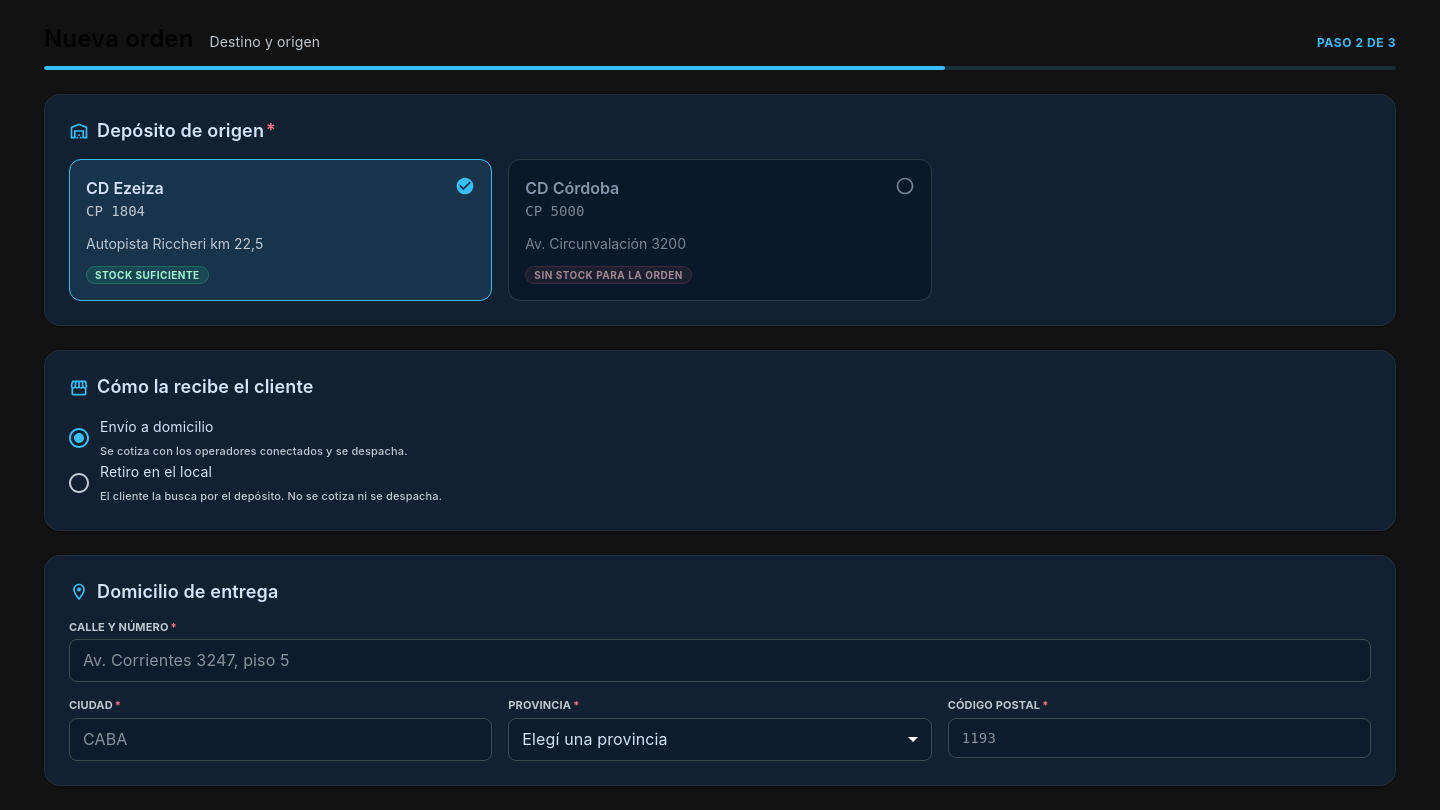
it: ShippingStepPage · what is missing to advance › names the confirmation as the next stage of a pickup
Click the radio button labelled "Retiro en el local" at (156, 471), box [67, 463, 442, 503]
(page scrolled)
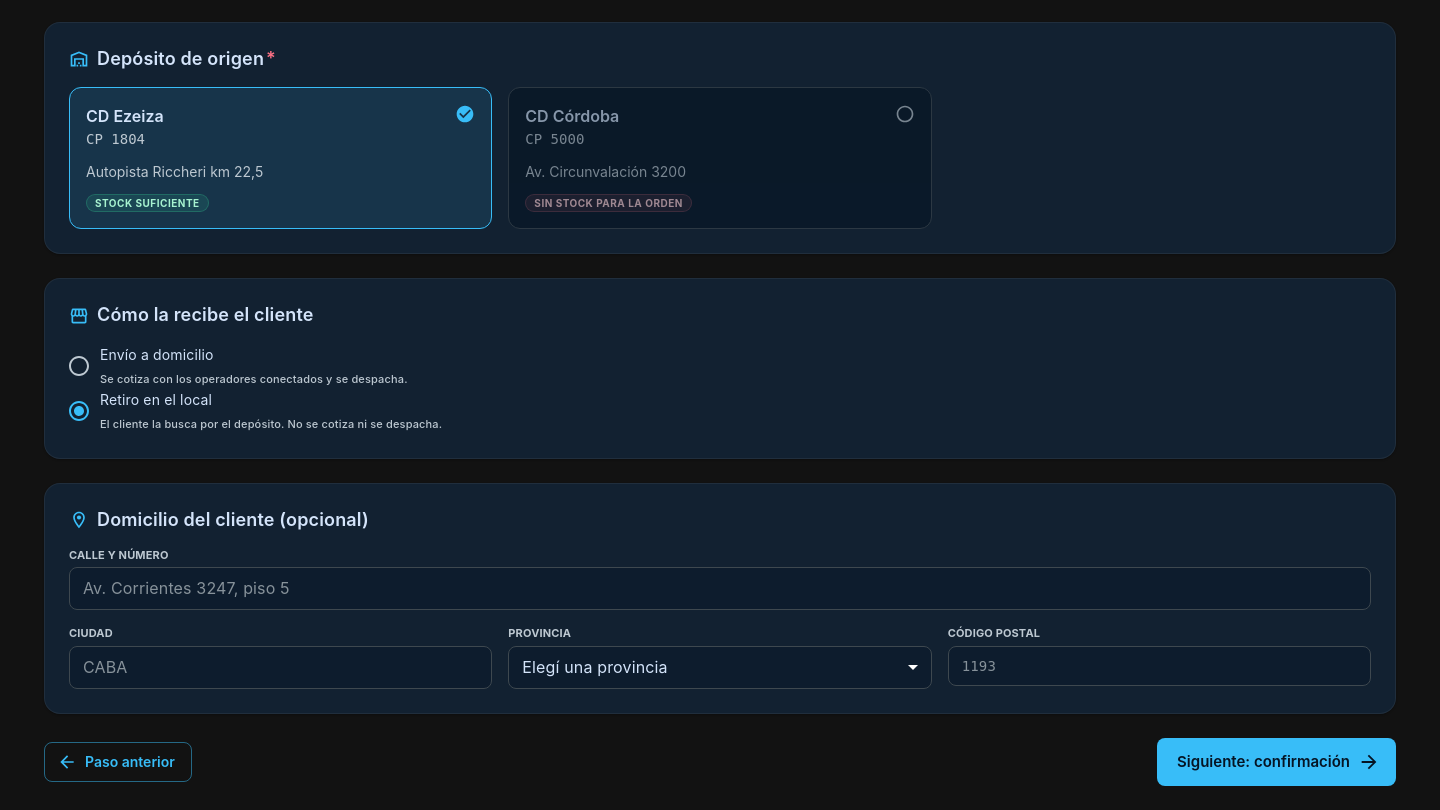
Result: the button "Siguiente: confirmación" is shown at [1157, 738, 1396, 786]
